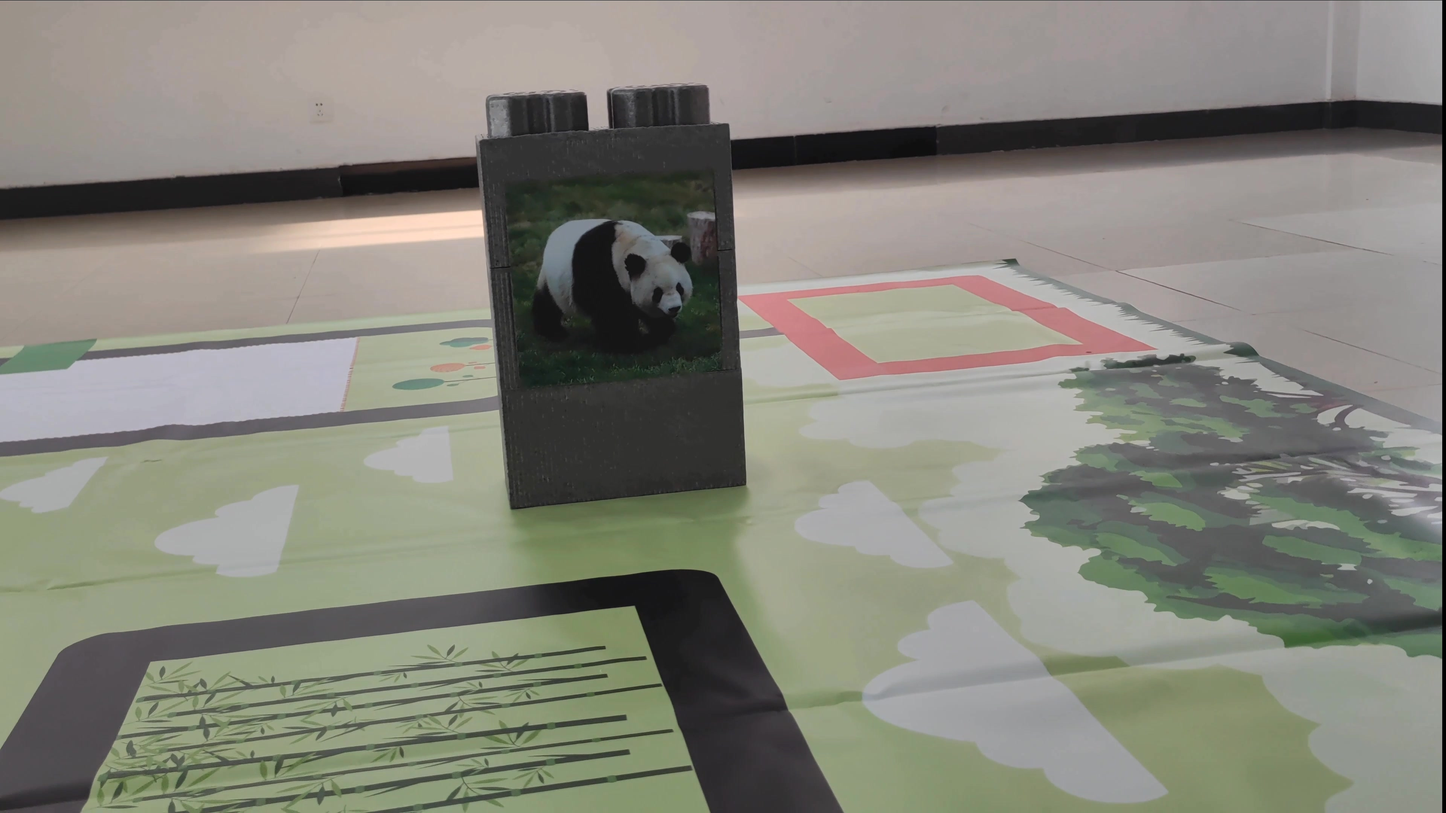panda: (511, 184, 713, 376)
